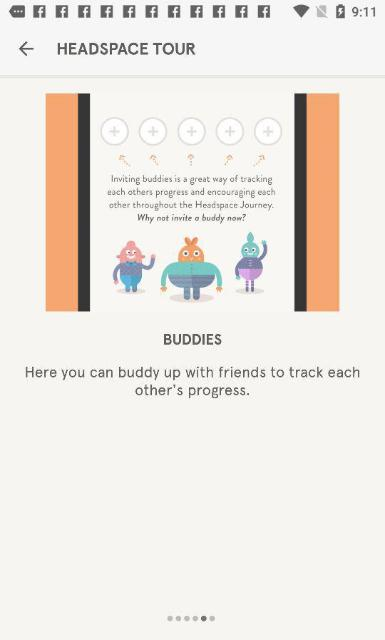Icon: (18, 42, 34, 56)
Image: (45, 92, 339, 312)
PageIndicator: (166, 614, 216, 622)
Text: (25, 366, 359, 398), (58, 42, 196, 56), (162, 333, 222, 345)
Toolbar: (0, 18, 384, 76)
UpperTaskBar: (0, 0, 384, 18)
